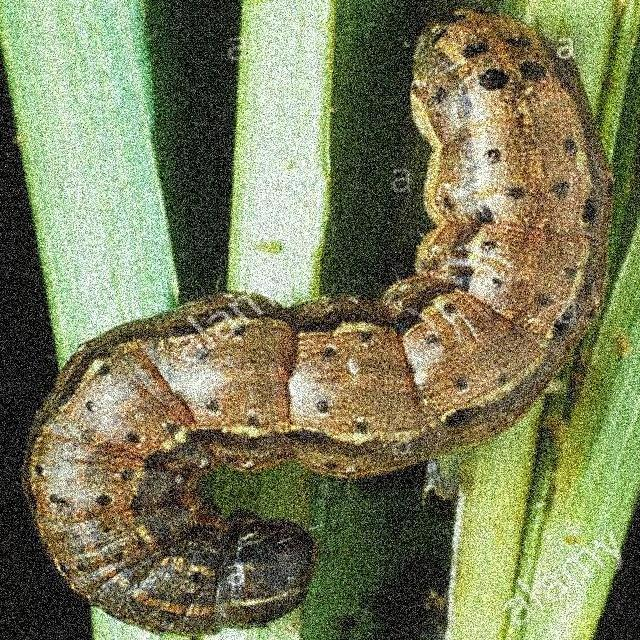gusano_cogollero: (19, 0, 618, 632)
